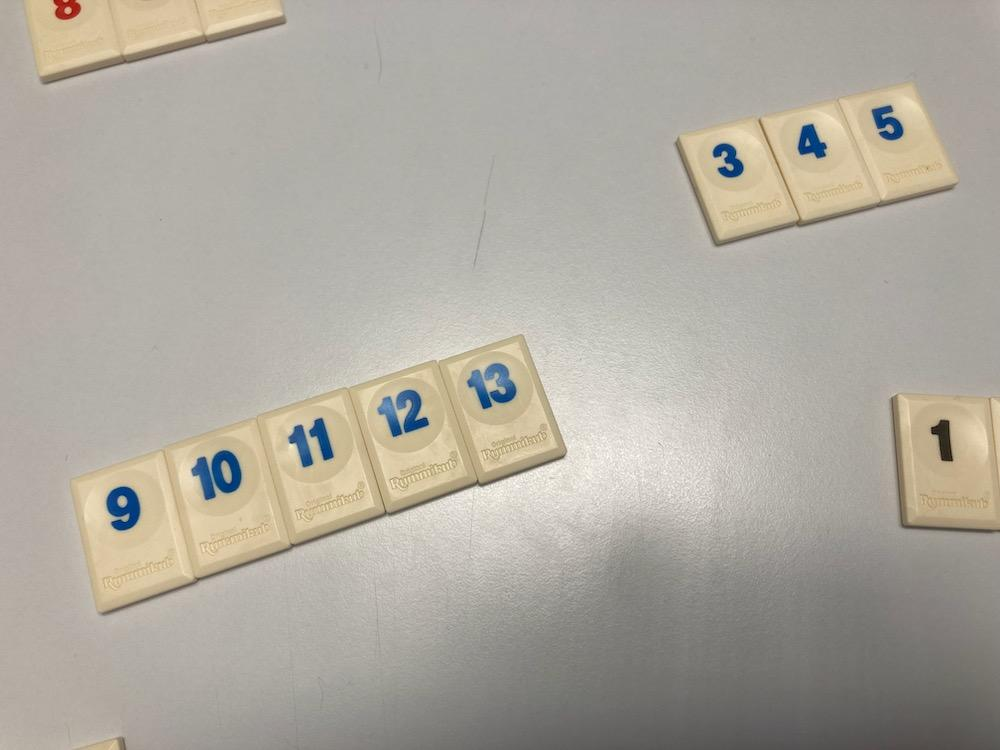black_1: (893, 395, 1000, 529)
blue_10: (167, 420, 289, 578)
blue_11: (258, 389, 383, 543)
blue_12: (352, 361, 477, 512)
blue_13: (439, 336, 566, 484)
blue_3: (678, 117, 797, 244)
blue_4: (763, 102, 879, 223)
blue_5: (840, 82, 959, 203)
blue_9: (72, 451, 195, 613)
red_8: (25, 0, 123, 82)
